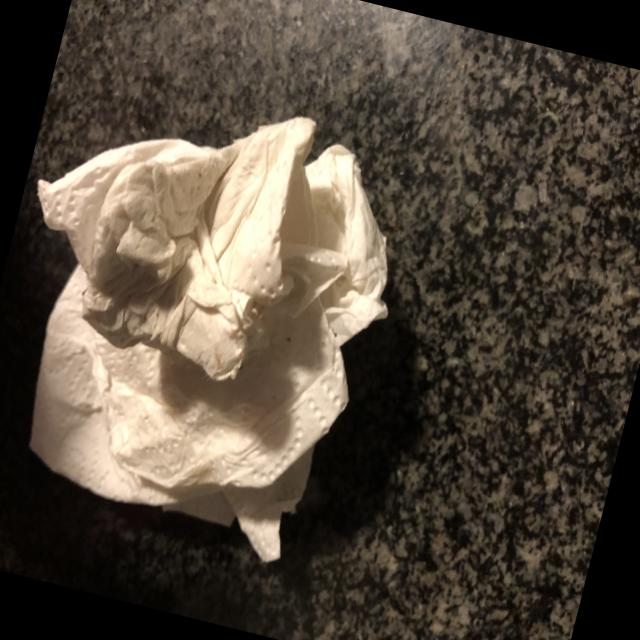organic waste: (0, 51, 432, 585)
